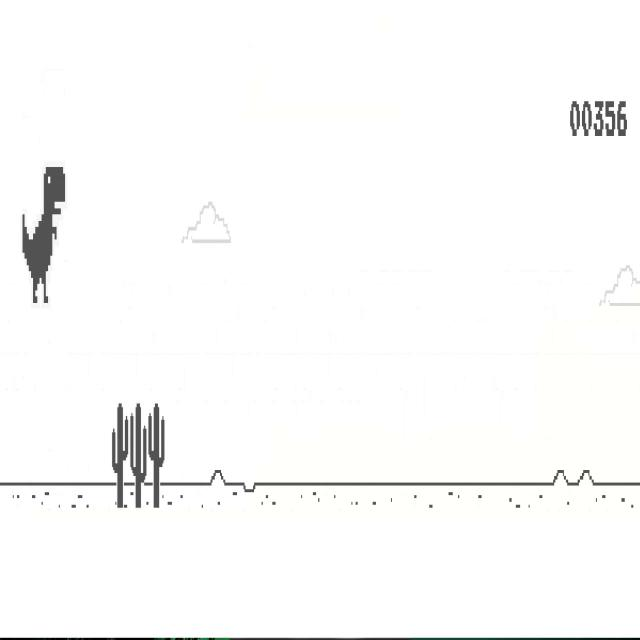cacto: (111, 400, 129, 510), (129, 400, 147, 510), (148, 400, 165, 510)
dino: (22, 166, 66, 304)
